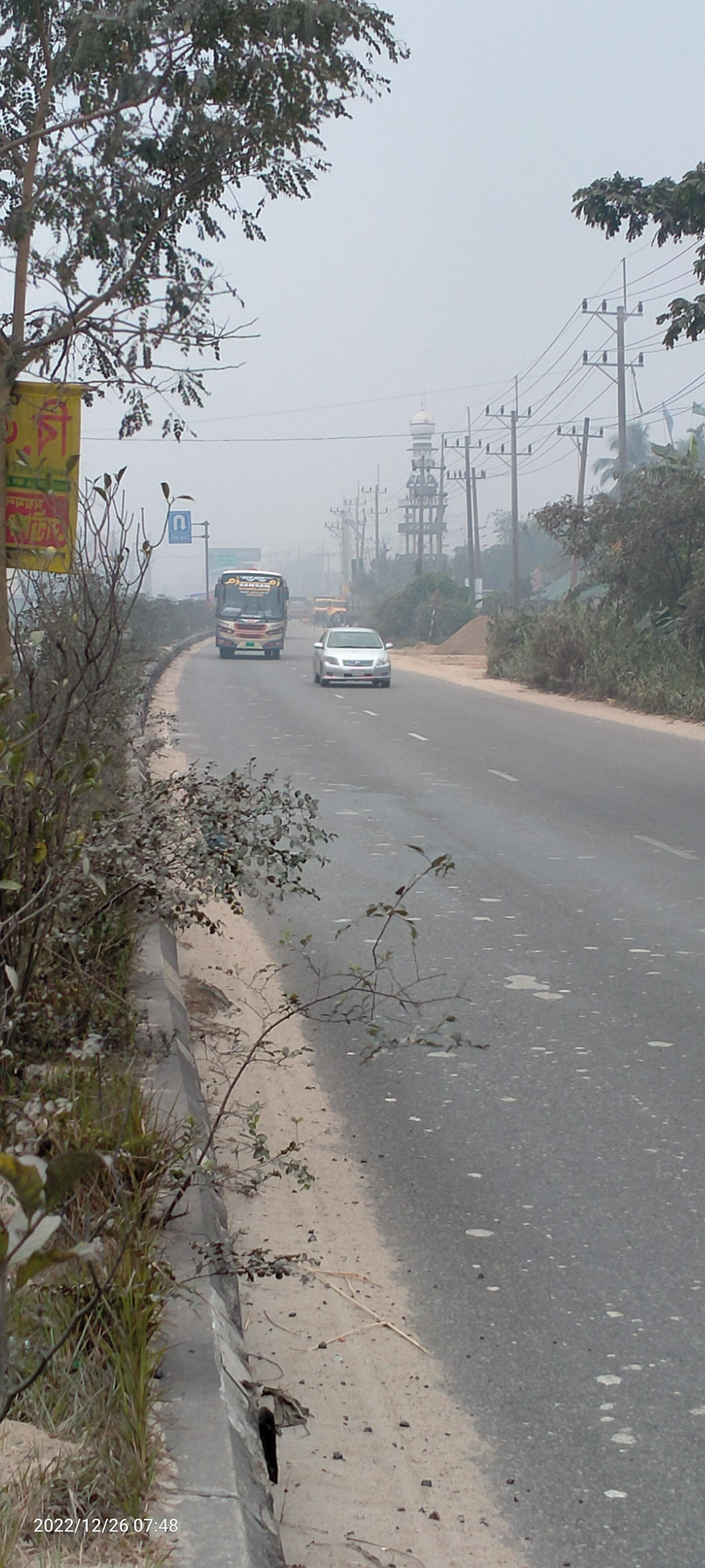Bus: (205, 557, 294, 664)
Car: (307, 621, 407, 691)
